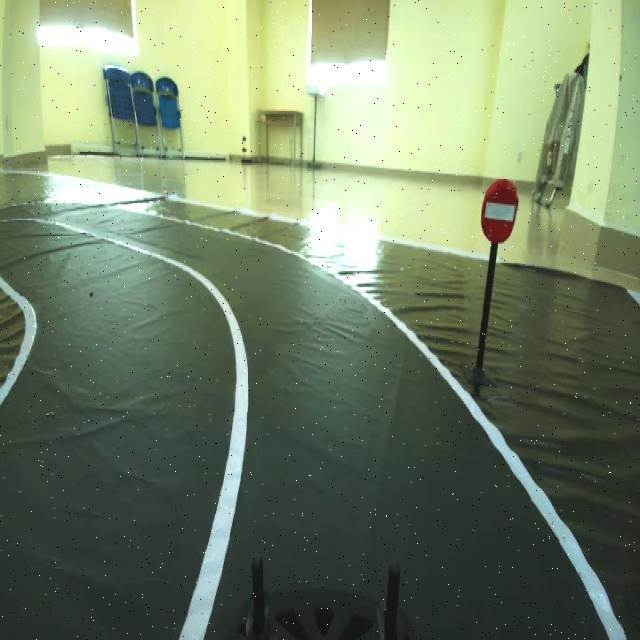no_entry: (473, 165, 524, 253)
